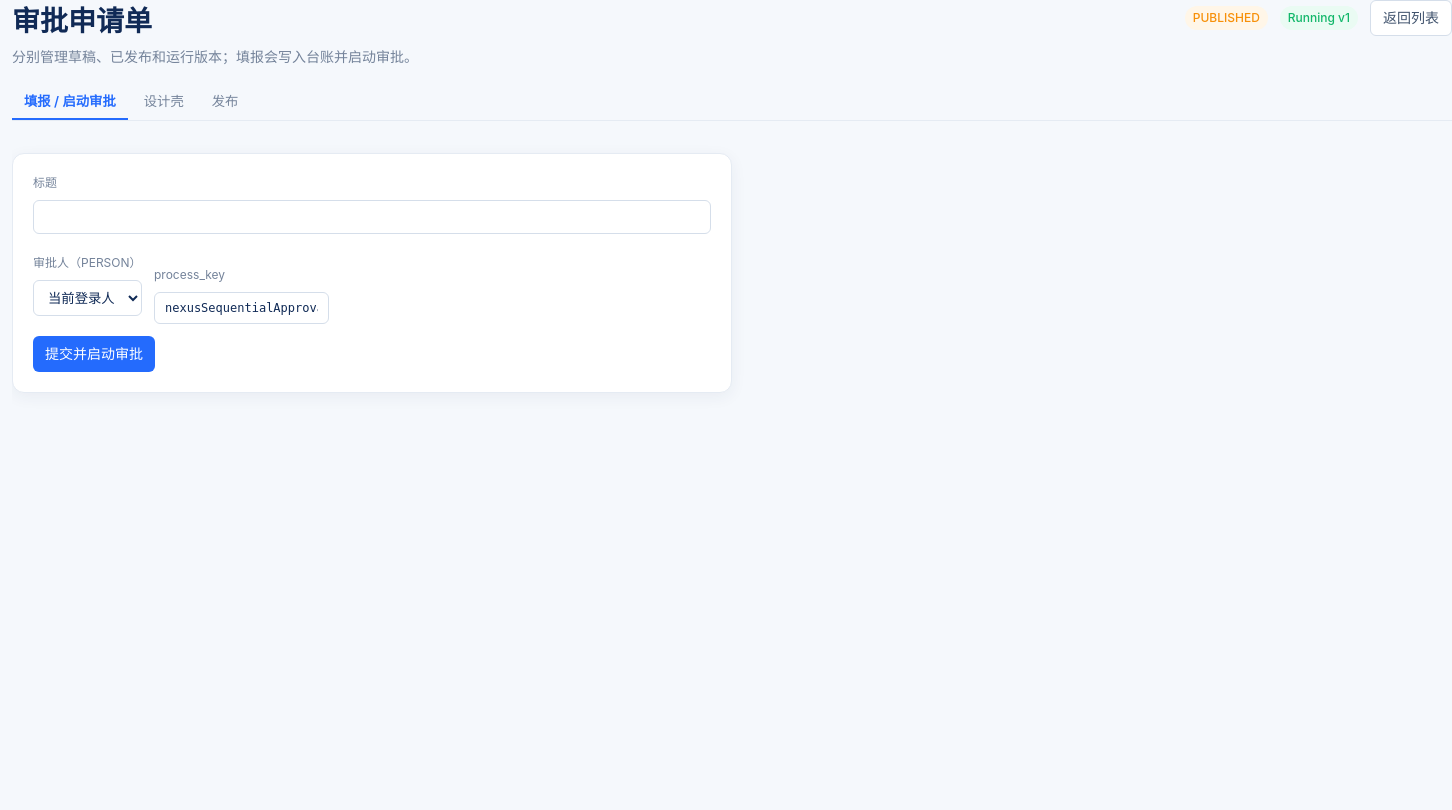
Scenario: form studio visual states › shows NxResult and toast after submit without developer JSON in the user surface
The width and height of the screenshot is (1452, 810).
In the field below "标题": (372, 217) [33,200,711,234], type "事由"
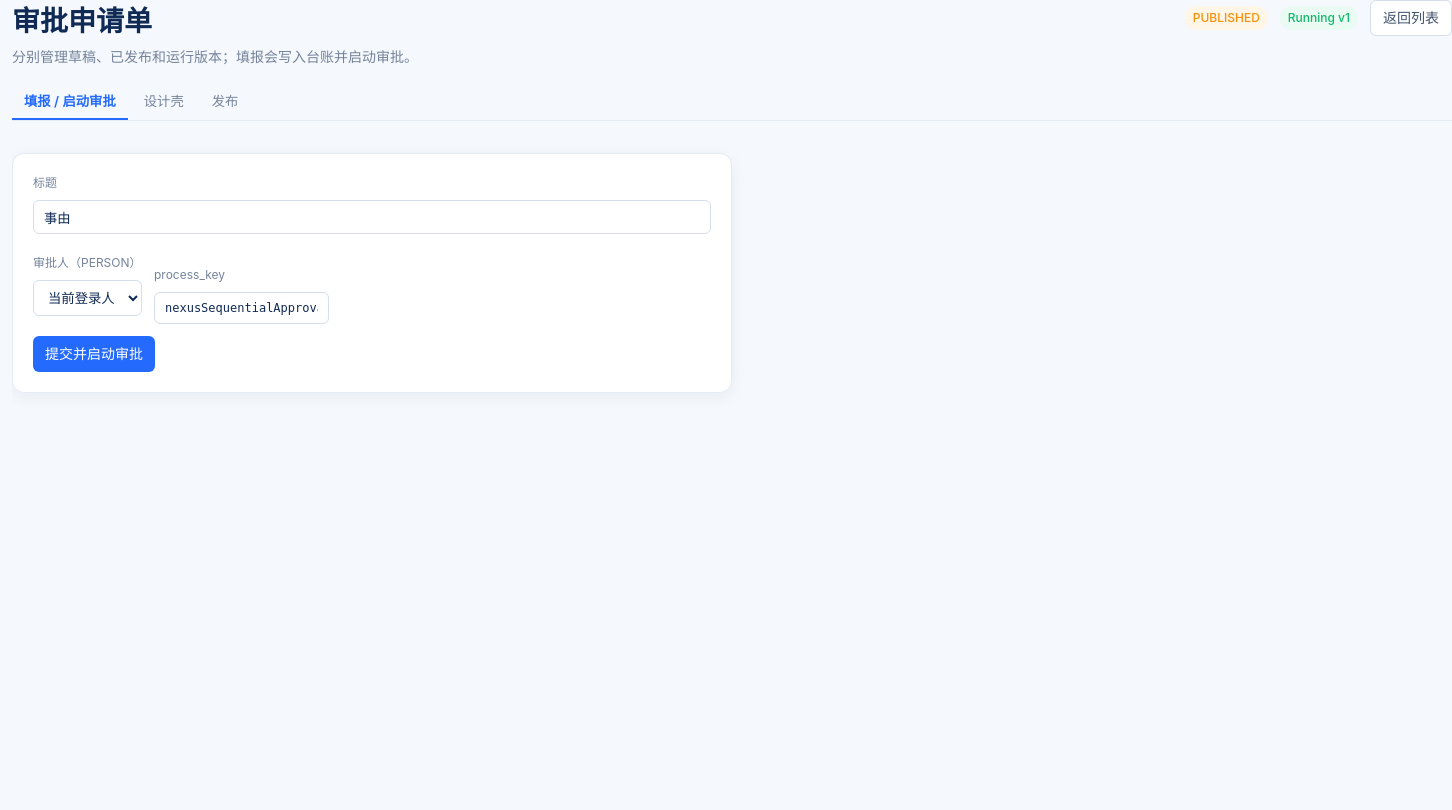
Submit the form from the button with test id "form-fill-submit", box [33,336,155,372]
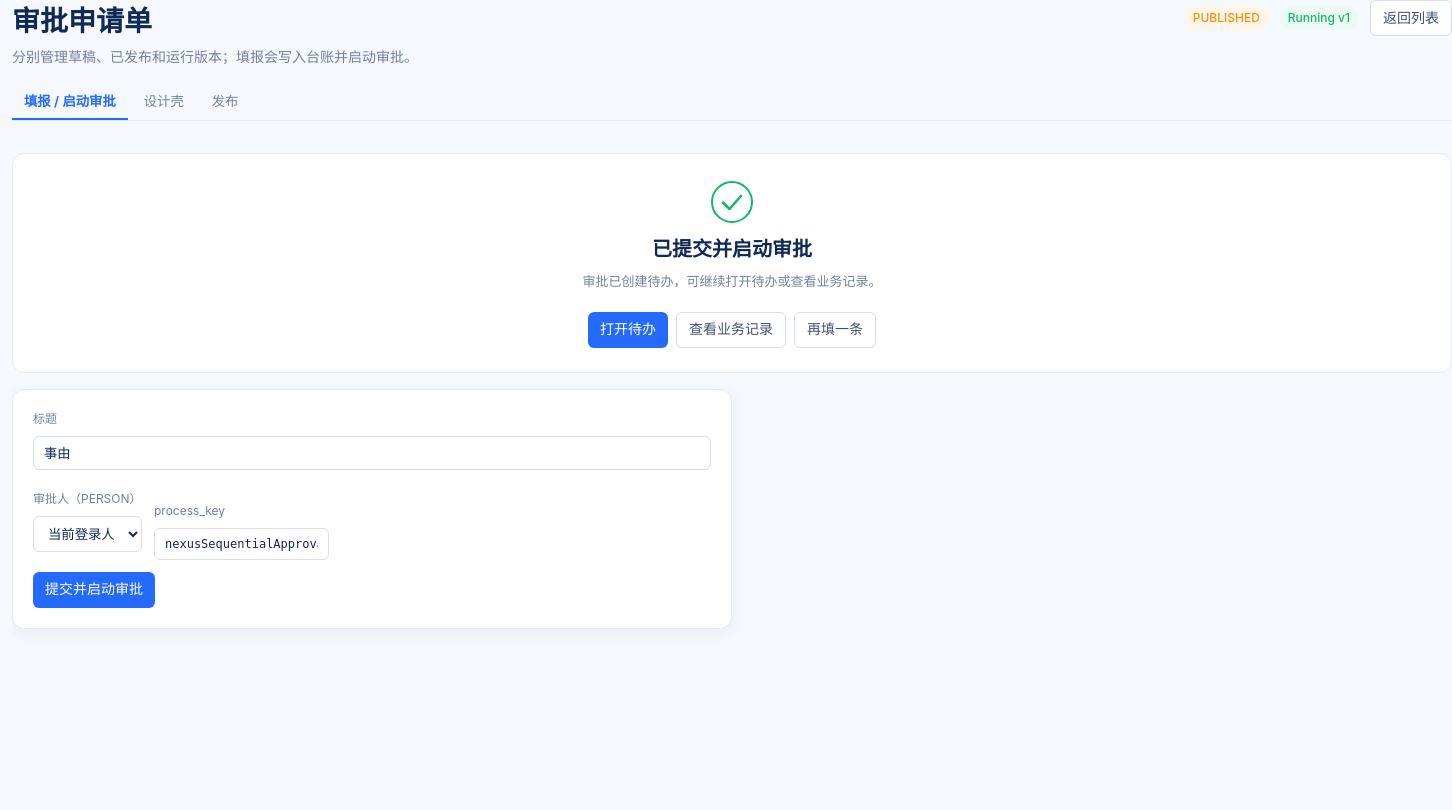
Expected: the message with test id "form-submit-result" shows "已提交并启动审批", [652,237,812,261]
